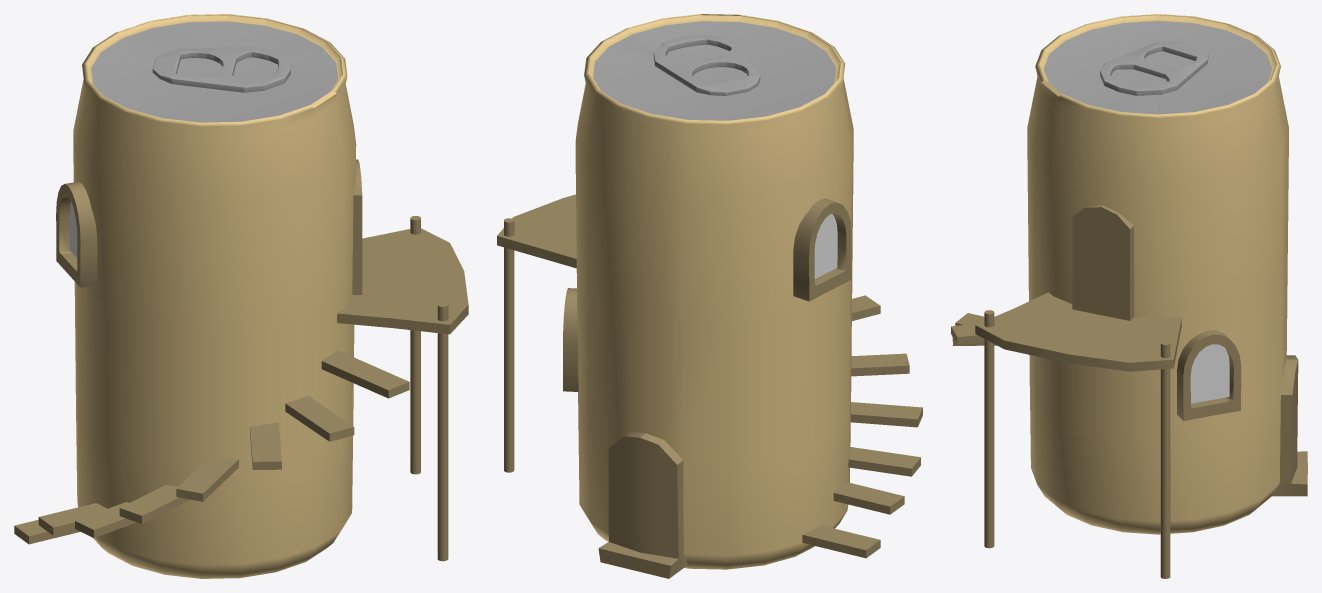
Rendered from CanHouse2.fbx.
The picture shows the model from 3 angles, left to right: view 1: azimuth 30°, elevation 25°; view 2: azimuth 150°, elevation 25°; view 3: azimuth 270°, elevation 25°; orthographic projection. The views are drawn at different scales.
Parts seen in each view (by area): view 1: CanHouse_; view 2: CanHouse_; view 3: CanHouse_.
Part boxes in pixels (x1,y1,x2,y2): CanHouse_: (14,14,468,578); CanHouse_: (497,14,922,578); CanHouse_: (951,14,1307,578).
Size of the model in its own units: 10.97 by 12.17 by 9.28.
